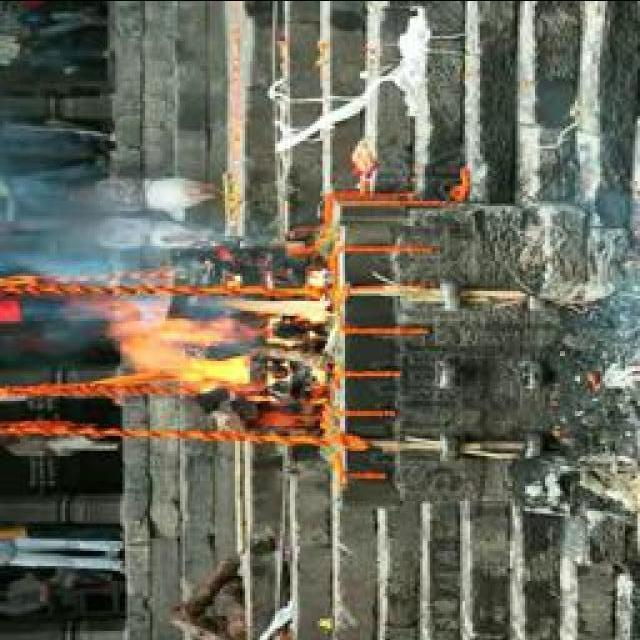Fire: (95, 289, 336, 389)
